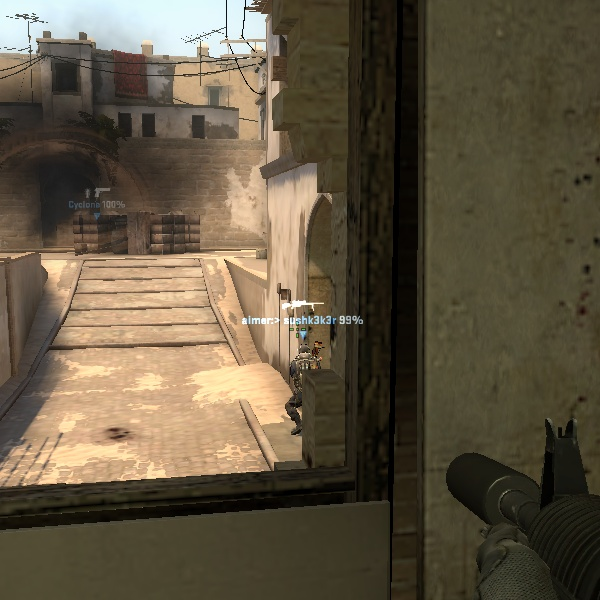t_body: (280, 339, 327, 456)
